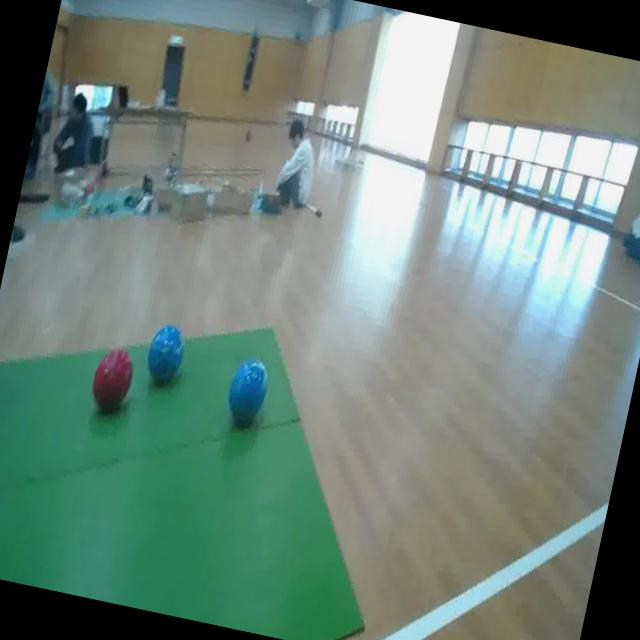blue_ball: (222, 352, 275, 430), (140, 317, 190, 391)
red_ball: (85, 342, 139, 418)
